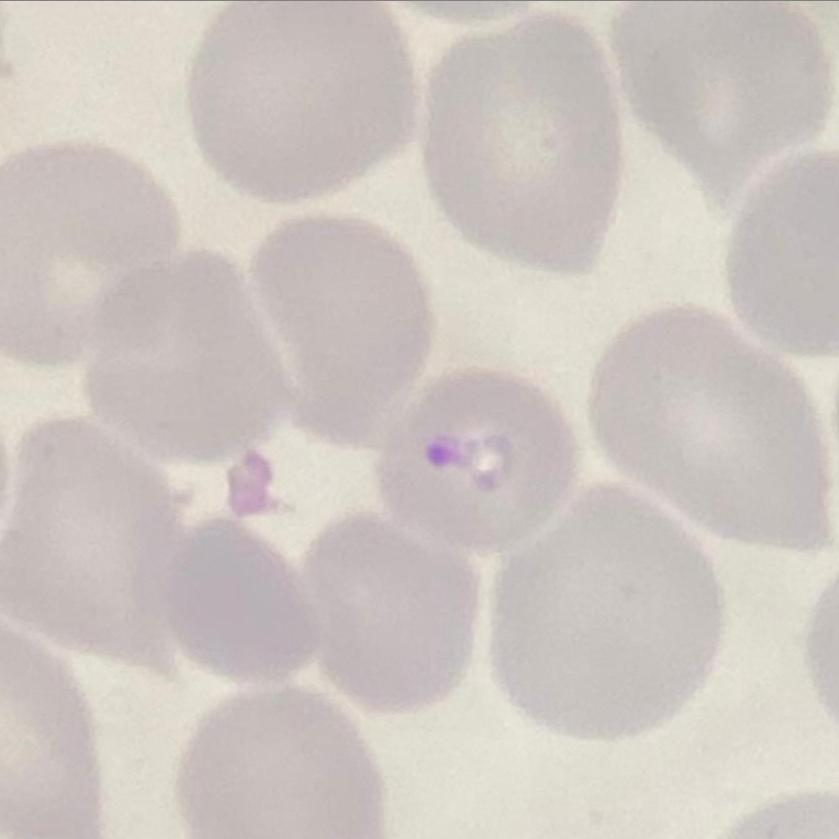Infected: (380, 365, 581, 549)
Uninfected: (592, 307, 839, 553), (485, 495, 719, 744), (423, 12, 625, 276), (0, 420, 189, 684), (80, 250, 297, 467), (185, 0, 417, 198), (612, 0, 834, 203), (0, 139, 178, 360), (252, 221, 431, 436), (305, 515, 481, 716), (173, 692, 386, 839), (170, 519, 322, 691)
